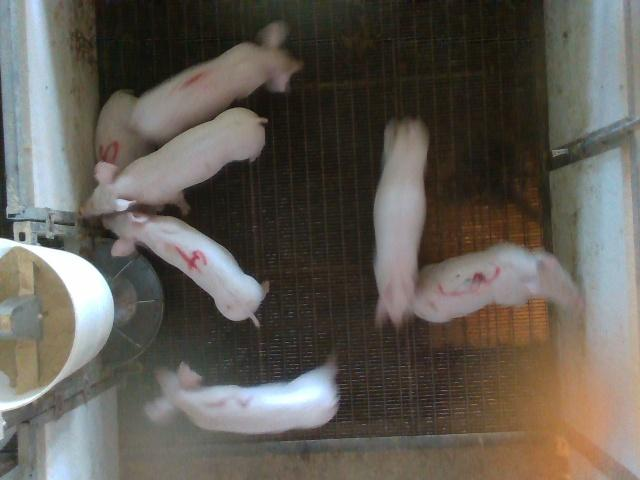pig-1: (131, 21, 302, 143)
pig-2: (145, 359, 339, 433)
pig-3: (414, 244, 582, 322)
pig-4: (102, 211, 269, 326)
pig-5: (95, 90, 148, 169)
